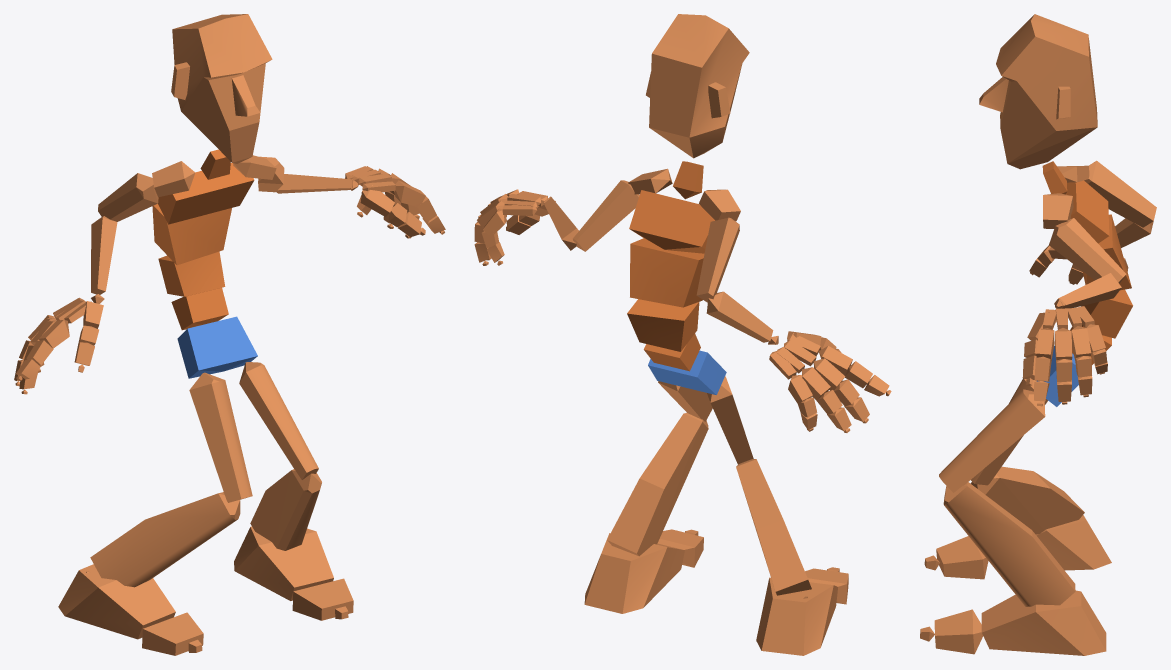
Rendered from prueba36.obj.
3 renders of one model, left to right at view 1: azimuth 30°, elevation 25°; view 2: azimuth 150°, elevation 25°; view 3: azimuth 270°, elevation 25°, orthographic.
Parts seen in each view (by area): view 1: BOPED_Head, BOPED_R_leg, BOPED_R_foot, BOPED_R_foot01, BOPED_R_legup, BOPED_L_leg, Bone01, BOPED_L_legup, Bone04, Bone05, Bone03, BOPED_R_foot_toe01 (+8 smaller); view 2: BOPED_Head, BOPED_L_leg, BOPED_R_foot01, BOPED_R_foot, BOPED_R_leg, Bone04, Bone05, Bone03, BOPED_R_arm_upper, BOPED_L_arm_upper, Bone01, BOPED_R_legup (+9 smaller); view 3: BOPED_Head, BOPED_L_leg, BOPED_R_foot01, BOPED_R_leg, BOPED_L_legup, BOPED_R_foot, BOPED_L_arm_upper, BOPED_R_arm_upper, Bone05, BOPED_R_foot_toe04, BOPED_R_foot_toe01, Bone03 (+14 smaller).
Part boxes in pixels (left/top/right/bottom): BOPED_Head: left=171, top=14, right=272, bottom=163; BOPED_R_leg: left=90, top=492, right=240, bottom=587; BOPED_R_foot: left=58, top=564, right=175, bottom=639; BOPED_R_foot01: left=234, top=526, right=333, bottom=600; BOPED_R_legup: left=189, top=372, right=252, bottom=502; BOPED_L_leg: left=250, top=469, right=321, bottom=550; Bone01: left=177, top=316, right=257, bottom=378; BOPED_L_legup: left=239, top=362, right=318, bottom=479; Bone04: left=152, top=203, right=231, bottom=265; Bone05: left=158, top=163, right=254, bottom=224; Bone03: left=158, top=251, right=225, bottom=296; BOPED_R_foot_toe01: left=142, top=612, right=203, bottom=655; BOPED_Head: left=646, top=14, right=749, bottom=158; BOPED_L_leg: left=607, top=413, right=708, bottom=556; BOPED_R_foot01: left=584, top=533, right=684, bottom=613; BOPED_R_foot: left=756, top=577, right=837, bottom=655; BOPED_R_leg: left=736, top=459, right=811, bottom=595; Bone04: left=630, top=238, right=704, bottom=307; Bone05: left=629, top=190, right=714, bottom=253; Bone03: left=627, top=299, right=699, bottom=351; BOPED_R_arm_upper: left=696, top=217, right=739, bottom=302; BOPED_L_arm_upper: left=573, top=180, right=639, bottom=251; Bone01: left=648, top=350, right=726, bottom=394; BOPED_R_legup: left=707, top=376, right=753, bottom=464; BOPED_Head: left=979, top=14, right=1097, bottom=169; BOPED_L_leg: left=943, top=482, right=1075, bottom=606; BOPED_R_foot01: left=981, top=590, right=1106, bottom=655; BOPED_R_leg: left=970, top=466, right=1084, bottom=534; BOPED_L_legup: left=939, top=389, right=1045, bottom=492; BOPED_R_foot: left=1036, top=515, right=1111, bottom=570; BOPED_L_arm_upper: left=1049, top=218, right=1126, bottom=283; BOPED_R_arm_upper: left=1084, top=160, right=1156, bottom=227; Bone05: left=1066, top=180, right=1109, bottom=243; BOPED_R_foot_toe04: left=934, top=609, right=982, bottom=654; BOPED_R_foot_toe01: left=936, top=536, right=988, bottom=579; Bone03: left=1081, top=289, right=1132, bottom=338.
Size of the model in its own units: 130 by 172 by 62.76.
